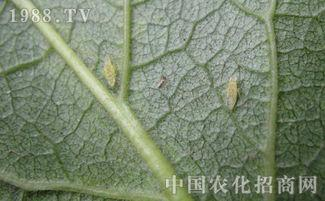tiny_pests: (96, 51, 123, 90), (222, 69, 245, 112)
